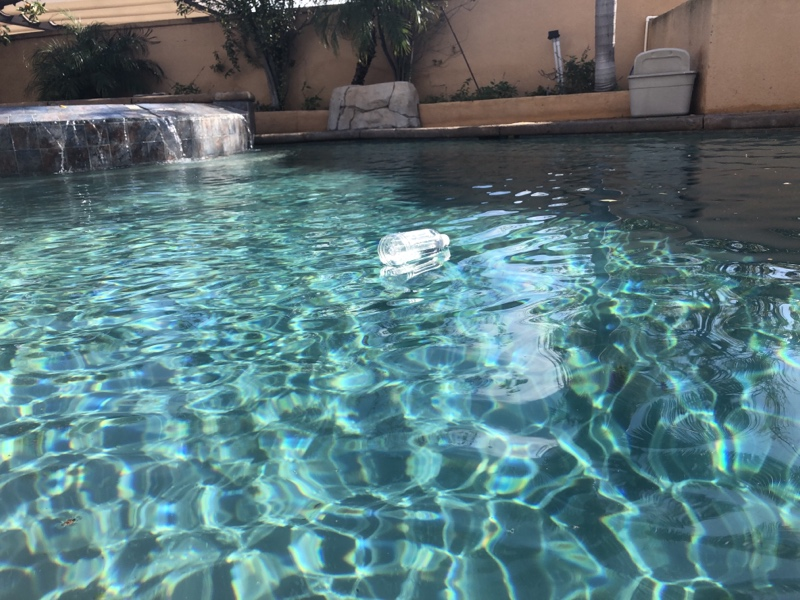Plastic Bottle: (374, 224, 454, 267)
